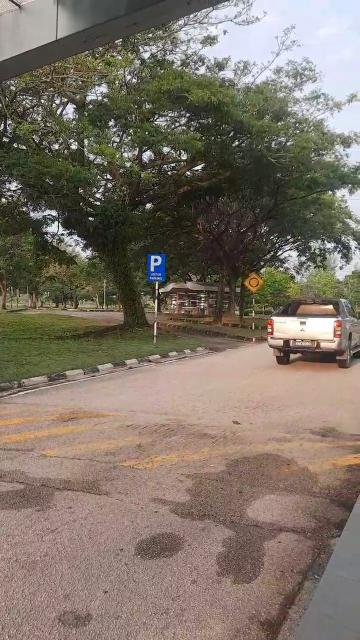License_Plate: (291, 340, 318, 349)
car: (270, 293, 360, 369)
